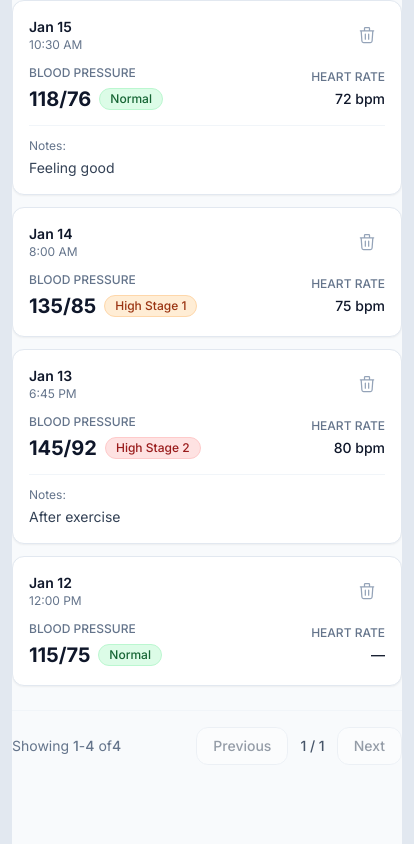
Test case: BPRecordsList › mobile view › shows delete confirmation in mobile view
Click the button with test id "card-delete-1".
click(367, 35)  # box x1=349 y1=17 x2=385 y2=53
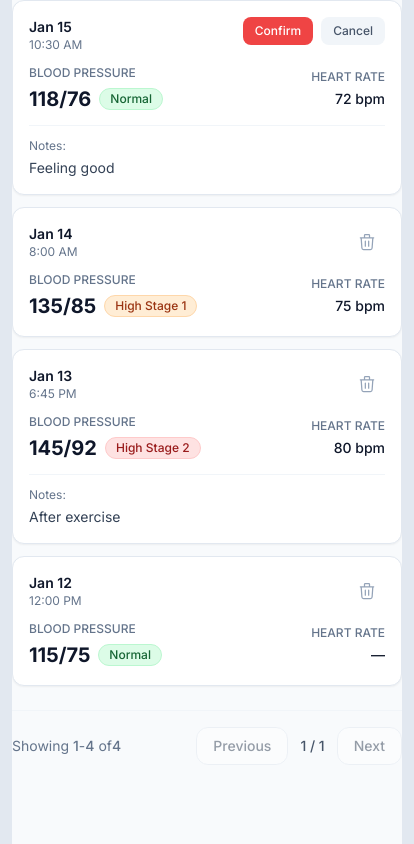
Expected: the button with test id "card-confirm-delete-1" is shown, x1=243 y1=17 x2=313 y2=45
Expected: the button with test id "card-cancel-delete-1" is shown, x1=321 y1=17 x2=385 y2=45
